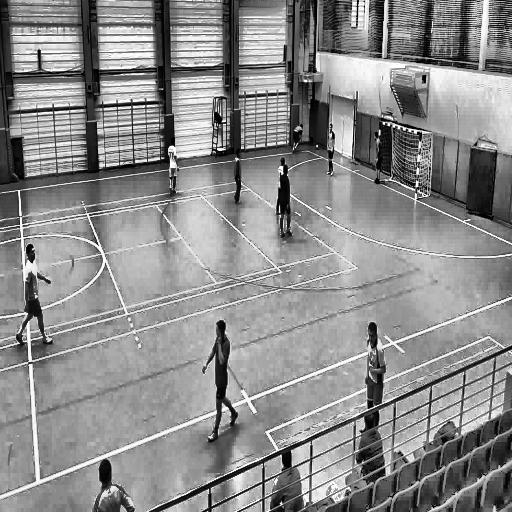ball: (316, 142, 320, 150)
player: (201, 320, 241, 445), (15, 244, 56, 349), (363, 321, 387, 431), (278, 166, 294, 243), (276, 157, 289, 216), (168, 136, 178, 202), (233, 146, 243, 207), (326, 121, 336, 180), (373, 131, 383, 188), (292, 123, 304, 156)
